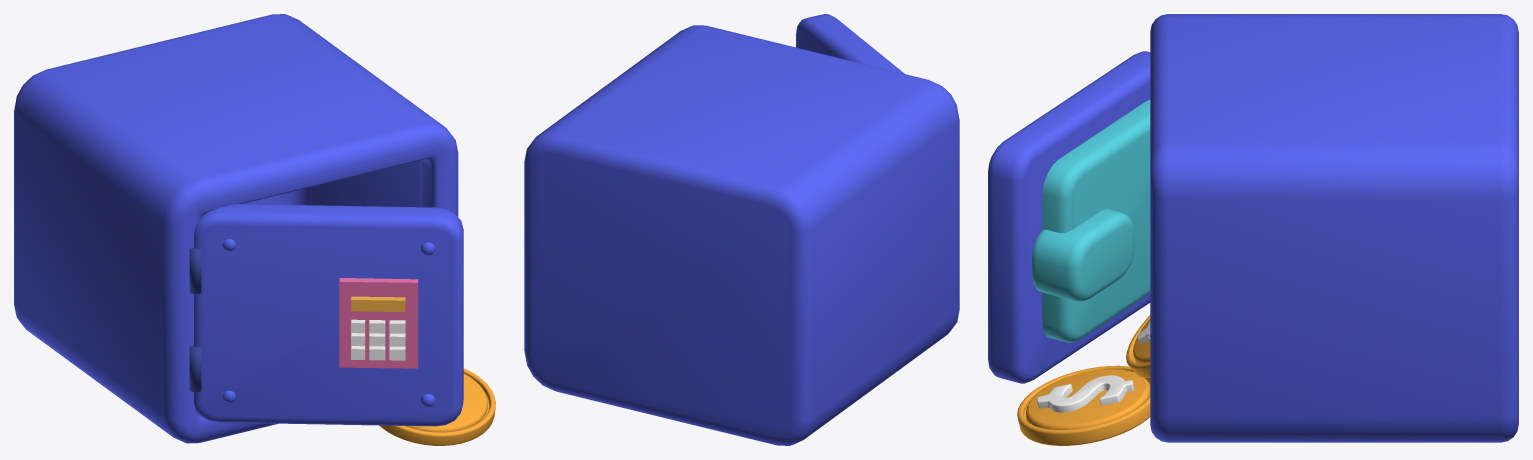
File: locker.glb
3 views of the same model, side by side, from view 1: azimuth 30°, elevation 25°; view 2: azimuth 150°, elevation 25°; view 3: azimuth 270°, elevation 25° (orthographic). The views are drawn at different scales.
Parts seen in each view (by area): view 1: locker.044; view 2: locker.044; view 3: locker.044.
Boxes of the visible parts, x1=… form: locker.044: x1=14, y1=14, x2=495, y2=445; locker.044: x1=524, y1=14, x2=959, y2=445; locker.044: x1=988, y1=14, x2=1518, y2=445.
Size of the model in its own units: 10.47 by 9.25 by 14.61.
